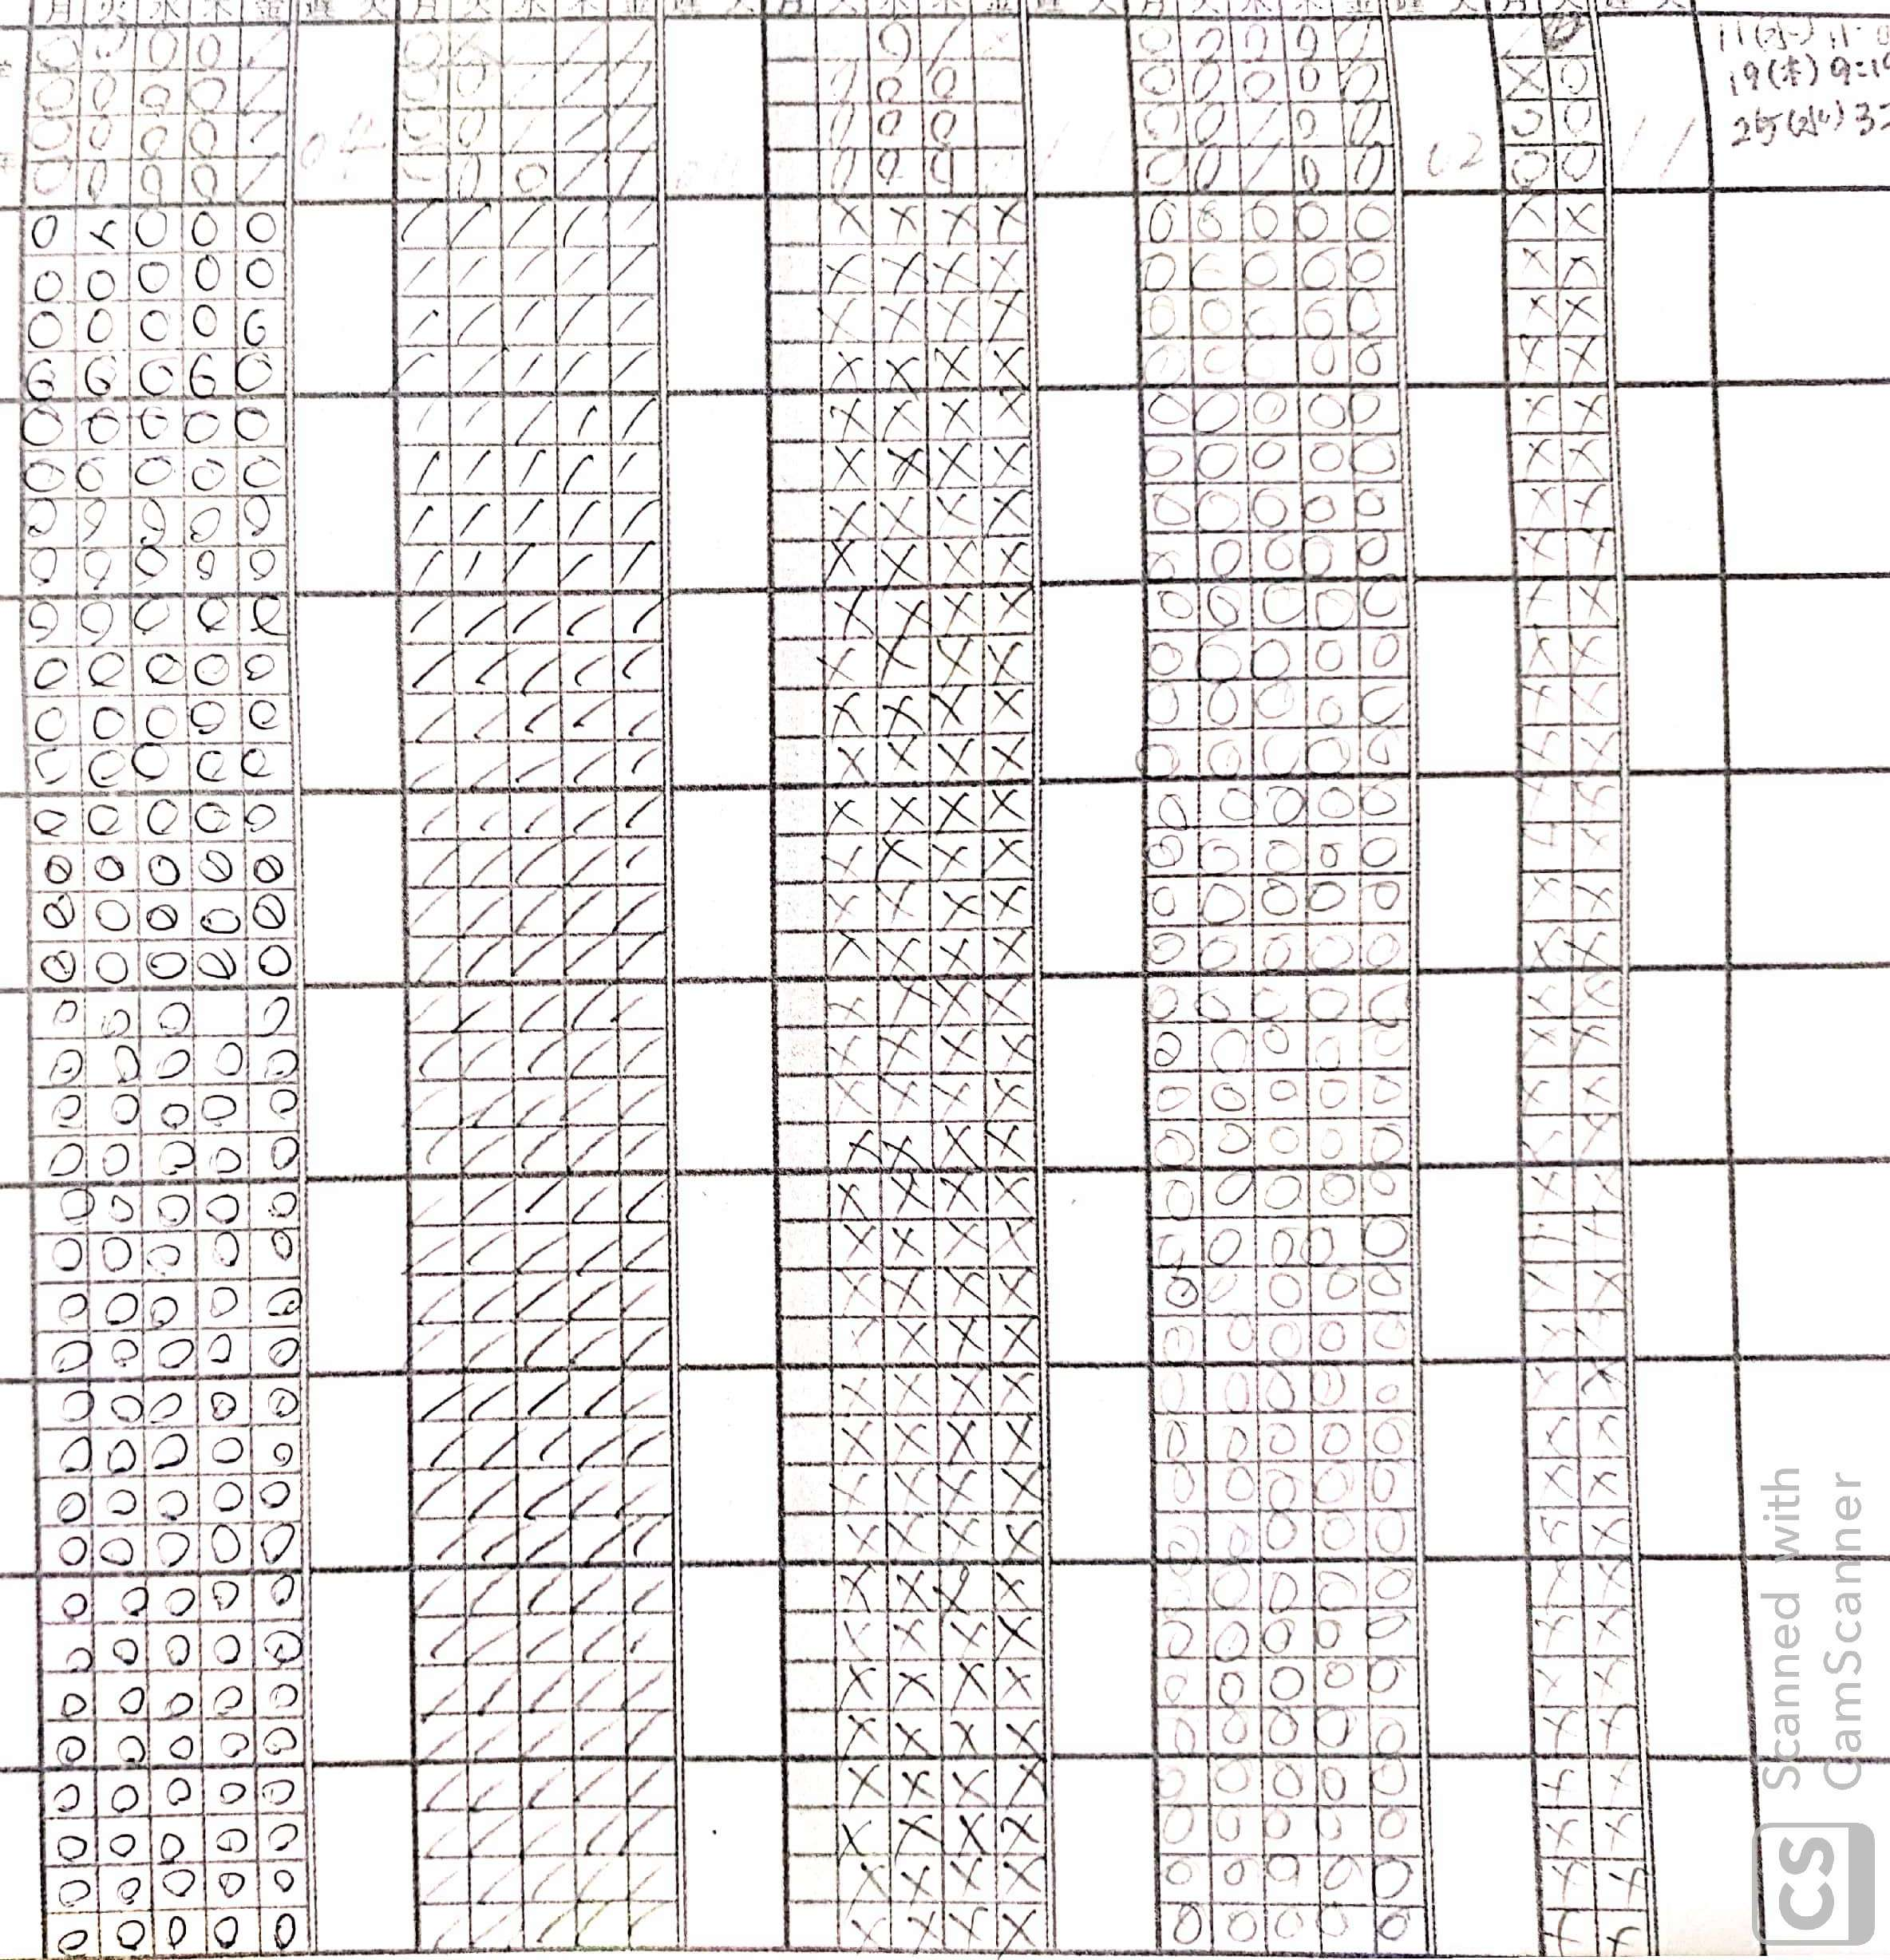/: (411, 1419, 467, 1472), (464, 1127, 518, 1178), (404, 887, 453, 935), (413, 1180, 464, 1225), (514, 1180, 567, 1223), (520, 1272, 565, 1320), (471, 1425, 518, 1470), (560, 294, 604, 343), (467, 1178, 516, 1222), (562, 599, 612, 641), (614, 495, 658, 542), (574, 1225, 618, 1271), (579, 1376, 625, 1419), (618, 791, 660, 838), (411, 1132, 458, 1174), (525, 1421, 567, 1468), (565, 647, 616, 686), (558, 499, 602, 542), (514, 695, 558, 739), (570, 1178, 614, 1222), (525, 1472, 569, 1516), (462, 698, 507, 740), (527, 1713, 572, 1755), (527, 1811, 572, 1853), (397, 254, 445, 294), (411, 1039, 458, 1080), (472, 1664, 513, 1712), (427, 1815, 474, 1855), (577, 1713, 626, 1752), (415, 1862, 466, 1899), (466, 751, 509, 793), (422, 1766, 464, 1810), (527, 1764, 569, 1808), (630, 1901, 672, 1944), (511, 401, 551, 446), (625, 1031, 665, 1076), (476, 1813, 521, 1853), (520, 747, 558, 795), (408, 753, 455, 791), (464, 798, 511, 836), (423, 1907, 471, 1946), (472, 1862, 521, 1899), (455, 206, 497, 249), (572, 1080, 614, 1122), (625, 1178, 667, 1220), (576, 1281, 618, 1323), (576, 1425, 618, 1467), (418, 1573, 460, 1615), (406, 649, 450, 690), (455, 499, 495, 542), (625, 845, 665, 889), (413, 1083, 457, 1124), (415, 1279, 458, 1320), (471, 1475, 511, 1519), (410, 702, 455, 740), (567, 800, 612, 838), (462, 894, 507, 933), (471, 1276, 509, 1321), (579, 1907, 626, 1944), (569, 891, 611, 931), (402, 205, 443, 247), (562, 450, 604, 490), (626, 1232, 667, 1274), (471, 1325, 513, 1365), (420, 1621, 462, 1661), (565, 205, 604, 249), (404, 352, 448, 390), (625, 595, 663, 639), (467, 1080, 506, 1124), (520, 1230, 563, 1269), (418, 1472, 457, 1516), (633, 1517, 672, 1561), (579, 1815, 623, 1853), (528, 1907, 572, 1946), (455, 350, 501, 387), (572, 702, 618, 739), (410, 800, 455, 836), (520, 898, 565, 935), (623, 1081, 660, 1127), (472, 1769, 518, 1806), (527, 1862, 572, 1899), (471, 1719, 518, 1754), (523, 1132, 572, 1166), (614, 304, 654, 345), (408, 453, 448, 494), (619, 698, 660, 739), (520, 847, 560, 887), (411, 942, 451, 982), (469, 1036, 509, 1076), (509, 250, 548, 292), (457, 301, 499, 340), (410, 600, 448, 642), (518, 942, 560, 980), (471, 1230, 509, 1272), (471, 1521, 509, 1563), (420, 1670, 458, 1712), (579, 1764, 618, 1806), (422, 845, 458, 889), (516, 992, 560, 1029), (415, 1232, 458, 1269), (418, 1379, 462, 1416), (528, 1670, 572, 1706), (630, 1274, 665, 1320), (525, 1381, 572, 1414), (569, 746, 609, 784), (521, 796, 560, 836), (619, 894, 660, 933), (471, 1572, 511, 1610), (472, 1621, 513, 1659), (528, 1621, 567, 1661), (633, 1860, 672, 1901), (625, 744, 661, 786), (583, 1523, 619, 1565), (633, 1811, 670, 1853), (514, 347, 549, 390), (516, 651, 555, 690), (462, 403, 501, 441), (423, 1524, 462, 1563), (583, 1860, 621, 1899), (467, 942, 507, 978), (458, 448, 495, 488), (567, 404, 604, 445), (467, 651, 504, 691), (625, 1325, 665, 1361), (579, 1473, 616, 1514), (576, 1572, 616, 1608), (572, 992, 614, 1027), (572, 1039, 614, 1075), (525, 1573, 567, 1608), (621, 397, 654, 441), (476, 1906, 520, 1939), (520, 1087, 556, 1125), (632, 1670, 670, 1706), (621, 249, 656, 289), (562, 350, 597, 390), (623, 989, 663, 1024), (576, 1330, 616, 1365), (415, 1330, 455, 1365), (472, 1381, 513, 1416), (464, 847, 506, 880), (621, 647, 658, 684), (572, 938, 609, 975), (415, 992, 451, 1029), (525, 1332, 563, 1367), (528, 1523, 567, 1558), (579, 1670, 618, 1704), (581, 1621, 614, 1661), (514, 205, 548, 245), (509, 299, 542, 340), (577, 1134, 619, 1166), (518, 448, 548, 492), (518, 1041, 562, 1071), (614, 352, 651, 387), (513, 546, 548, 583), (623, 940, 658, 977), (632, 1717, 668, 1752), (467, 992, 506, 1025), (633, 1764, 667, 1803), (514, 499, 546, 539), (408, 551, 448, 583), (404, 308, 446, 338), (520, 604, 555, 639), (422, 1725, 466, 1754), (628, 1377, 661, 1414), (626, 1136, 663, 1169), (408, 401, 439, 438), (462, 609, 506, 635), (565, 553, 604, 583), (572, 257, 600, 298), (621, 205, 654, 238), (458, 256, 492, 289), (632, 1577, 667, 1608), (411, 501, 437, 542), (464, 553, 495, 588), (628, 1432, 663, 1461), (626, 555, 654, 585), (630, 1484, 654, 1510), (633, 1624, 653, 1656)
0: (1249, 726, 1309, 781), (1144, 672, 1199, 730), (1356, 774, 1409, 831), (1253, 917, 1305, 973), (1304, 922, 1360, 975), (1304, 872, 1360, 924), (1146, 1216, 1202, 1269), (1153, 1365, 1209, 1417), (1255, 1265, 1314, 1314), (1242, 240, 1297, 292), (1251, 677, 1305, 730), (1349, 336, 1402, 390), (1209, 1755, 1263, 1808), (1199, 875, 1255, 926), (1249, 628, 1305, 679), (1305, 1169, 1365, 1216), (1263, 1859, 1323, 1906), (1148, 1022, 1200, 1075), (1193, 434, 1246, 487), (1202, 1216, 1255, 1269), (1146, 971, 1200, 1022), (1199, 630, 1253, 681), (1199, 824, 1253, 875), (1309, 726, 1360, 781), (1304, 532, 1358, 583), (1363, 1361, 1417, 1412), (1139, 389, 1195, 438), (1244, 389, 1300, 438), (1255, 1017, 1304, 1073), (1300, 481, 1356, 530), (1148, 1269, 1206, 1316), (1157, 1806, 1216, 1852), (1244, 338, 1297, 389), (1265, 1806, 1318, 1857), (1144, 877, 1199, 926), (1262, 1761, 1316, 1810), (1148, 1071, 1204, 1118), (1305, 826, 1361, 873), (1249, 1169, 1305, 1216), (1146, 1169, 1202, 1216), (1309, 1313, 1365, 1360), (1200, 1314, 1258, 1360), (1192, 240, 1242, 290), (1143, 290, 1193, 341), (1148, 532, 1199, 583), (1255, 823, 1305, 873), (1356, 679, 1407, 730), (1314, 1265, 1365, 1316), (1162, 1901, 1213, 1951), (1193, 338, 1246, 387), (1199, 677, 1251, 726), (1200, 926, 1253, 975), (1253, 775, 1305, 824), (1365, 1313, 1417, 1361), (1311, 1363, 1363, 1412), (1256, 1411, 1309, 1460), (1372, 1806, 1421, 1859), (1139, 341, 1193, 389), (1144, 485, 1199, 532), (1143, 826, 1197, 873), (1199, 583, 1253, 630), (1202, 1071, 1256, 1118), (1246, 438, 1300, 485), (1246, 485, 1300, 532), (1251, 581, 1305, 628), (1307, 1118, 1361, 1166), (1255, 1216, 1309, 1264), (1309, 1460, 1363, 1507), (1192, 487, 1248, 532), (1213, 1907, 1269, 1953), (1148, 728, 1199, 777), (1148, 777, 1199, 826), (1199, 532, 1248, 583), (1251, 530, 1300, 581), (1309, 628, 1358, 679), (1360, 926, 1410, 975), (1206, 1411, 1256, 1460), (1214, 1806, 1265, 1855), (1200, 973, 1253, 1020), (1200, 1024, 1253, 1071), (1307, 1071, 1360, 1118), (1300, 434, 1353, 481), (1144, 926, 1199, 971), (1190, 292, 1244, 338), (1304, 583, 1358, 628), (1309, 1220, 1365, 1264), (1319, 1909, 1377, 1951), (1148, 581, 1197, 630), (1358, 630, 1407, 679), (1361, 975, 1410, 1024), (1323, 1806, 1372, 1855), (1143, 240, 1190, 290), (1144, 438, 1195, 485), (1148, 630, 1199, 677), (1256, 1071, 1307, 1118), (1361, 1066, 1409, 1116), (1206, 1460, 1256, 1507), (1193, 389, 1246, 434), (1200, 781, 1253, 826), (1307, 1025, 1360, 1071), (1309, 781, 1361, 826), (1323, 1860, 1375, 1906), (1316, 1761, 1370, 1804), (1304, 387, 1353, 434), (1304, 336, 1349, 387), (1354, 535, 1405, 581), (1206, 1269, 1256, 1314), (1258, 1314, 1309, 1360), (1260, 1363, 1311, 1409), (1153, 1416, 1204, 1461), (1356, 730, 1409, 774), (1363, 1463, 1416, 1507), (1316, 1608, 1368, 1652), (1157, 1762, 1209, 1806), (1269, 1909, 1323, 1951), (1298, 194, 1346, 242), (1297, 245, 1344, 292), (1309, 679, 1356, 726), (1354, 438, 1402, 485), (1202, 1169, 1249, 1216), (1246, 292, 1295, 338), (1358, 583, 1403, 632), (1151, 1316, 1200, 1361), (1365, 1414, 1414, 1460), (1256, 1463, 1305, 1509), (1377, 1909, 1426, 1955), (1199, 1125, 1256, 1164), (1360, 875, 1403, 926), (1365, 1166, 1409, 1216), (1209, 1365, 1260, 1409), (1157, 1470, 1213, 1509), (1193, 194, 1239, 242), (1361, 1118, 1409, 1164), (1360, 1022, 1409, 1066), (1365, 1264, 1409, 1313), (1162, 1857, 1211, 1901), (1216, 1853, 1256, 1906), (1354, 389, 1400, 434), (1316, 1657, 1361, 1703), (1374, 1860, 1419, 1906), (1358, 485, 1402, 532), (1312, 1414, 1360, 1458), (1160, 1610, 1204, 1657), (1267, 1713, 1314, 1757), (1207, 1712, 1263, 1748), (1351, 245, 1396, 289), (1258, 875, 1304, 919), (1318, 1512, 1361, 1558), (1213, 1614, 1256, 1659), (1199, 731, 1246, 774), (1150, 1124, 1199, 1164), (1256, 1125, 1305, 1166), (1263, 1615, 1312, 1656), (1263, 1656, 1304, 1704), (1248, 196, 1290, 242), (1256, 977, 1304, 1017), (1356, 831, 1403, 872), (1265, 1566, 1309, 1608), (1351, 196, 1391, 242), (1213, 1566, 1258, 1607), (1375, 1759, 1416, 1804), (1207, 1517, 1255, 1556), (1157, 1516, 1199, 1558), (1365, 1220, 1409, 1260), (1372, 1713, 1416, 1754), (1143, 194, 1181, 240), (1367, 1612, 1412, 1650), (1265, 1516, 1309, 1554), (1368, 1664, 1412, 1703), (1370, 1514, 1412, 1552), (1213, 1664, 1255, 1703), (1319, 1568, 1365, 1603), (1374, 1563, 1412, 1603), (1323, 1710, 1363, 1748), (1162, 1668, 1199, 1704), (1164, 1715, 1199, 1754), (1354, 296, 1393, 329)
o: (208, 1909, 257, 1957), (255, 1670, 303, 1715), (101, 1769, 149, 1815), (79, 599, 128, 642), (131, 597, 180, 641), (206, 1815, 252, 1860), (47, 1869, 93, 1915), (206, 1860, 252, 1906), (189, 595, 236, 639), (42, 1479, 89, 1523), (147, 1479, 194, 1523), (255, 1524, 303, 1568), (96, 1528, 143, 1572), (40, 1579, 87, 1622), (259, 1624, 306, 1668), (201, 1624, 248, 1668), (44, 1626, 91, 1670), (42, 1677, 89, 1720), (150, 1675, 198, 1719), (199, 1671, 247, 1715), (101, 1724, 149, 1768), (45, 1724, 93, 1768), (255, 1768, 303, 1811), (262, 1815, 310, 1859), (149, 1815, 196, 1859), (45, 1820, 93, 1864), (100, 1867, 147, 1911), (152, 1862, 199, 1906), (261, 1907, 308, 1951), (94, 1477, 140, 1521), (205, 1473, 250, 1517), (257, 1472, 303, 1516), (201, 1526, 247, 1570), (147, 1528, 192, 1572), (45, 1528, 91, 1572), (96, 1579, 142, 1622), (149, 1577, 194, 1621), (199, 1573, 245, 1617), (255, 1568, 301, 1612), (154, 1624, 199, 1668), (100, 1624, 145, 1668), (96, 1673, 142, 1717), (257, 1717, 303, 1761), (206, 1717, 252, 1761), (154, 1720, 199, 1764), (47, 1774, 93, 1818), (154, 1771, 199, 1815), (203, 1771, 248, 1815), (98, 1818, 143, 1862), (257, 1862, 303, 1906), (133, 501, 180, 542), (187, 501, 234, 542), (77, 499, 124, 541), (24, 501, 72, 542), (23, 544, 70, 586), (75, 546, 123, 588), (131, 546, 178, 588), (184, 544, 231, 586), (236, 544, 283, 586), (26, 599, 73, 641), (198, 896, 245, 938), (247, 892, 294, 935), (247, 938, 294, 980), (37, 943, 84, 985), (143, 992, 191, 1034), (248, 1036, 296, 1078), (199, 1036, 247, 1078), (89, 1038, 136, 1080), (35, 1089, 82, 1131), (145, 1090, 192, 1132), (252, 1087, 299, 1129), (252, 1134, 299, 1176), (147, 1134, 194, 1176), (91, 1137, 138, 1180), (42, 1185, 89, 1227), (145, 1188, 192, 1230), (149, 1234, 196, 1276), (145, 1283, 192, 1325), (149, 1334, 196, 1376), (98, 1334, 145, 1376), (42, 1334, 89, 1376), (131, 208, 177, 250), (182, 403, 228, 445), (91, 942, 136, 984), (245, 991, 290, 1033), (91, 1090, 136, 1132), (199, 1185, 245, 1227), (208, 1281, 254, 1323), (199, 1334, 245, 1376), (234, 495, 282, 535), (194, 943, 241, 984), (143, 943, 191, 984), (37, 994, 84, 1034), (91, 994, 138, 1034), (149, 1039, 196, 1080), (38, 1043, 86, 1083), (198, 1089, 245, 1129), (199, 1134, 247, 1174), (37, 1141, 84, 1181), (91, 1187, 138, 1227), (250, 1185, 297, 1225), (248, 1232, 296, 1272), (196, 1232, 243, 1272), (42, 1232, 89, 1272), (96, 1284, 143, 1325), (38, 1384, 86, 1425), (38, 1432, 86, 1472), (24, 403, 68, 445), (24, 453, 68, 495), (236, 399, 280, 441), (135, 403, 178, 445), (82, 403, 126, 445), (75, 450, 119, 492), (133, 450, 177, 492), (191, 453, 234, 495), (241, 448, 285, 490), (45, 1288, 91, 1328), (131, 256, 173, 298), (133, 304, 175, 347), (240, 301, 282, 343), (187, 299, 229, 341), (82, 350, 124, 392), (236, 350, 280, 390), (247, 796, 290, 836), (140, 796, 182, 836), (189, 352, 231, 392), (135, 352, 177, 392), (24, 354, 66, 394), (86, 796, 128, 836), (33, 798, 75, 838), (194, 795, 236, 835), (255, 1332, 299, 1370), (138, 744, 182, 782), (86, 702, 128, 740), (245, 744, 287, 782), (192, 749, 236, 786), (87, 747, 131, 784), (871, 19, 917, 54), (93, 1236, 133, 1274), (80, 261, 121, 299), (28, 308, 66, 348), (245, 698, 287, 735), (247, 847, 289, 884), (241, 254, 278, 296), (33, 747, 75, 784), (189, 254, 224, 298), (243, 208, 282, 247), (243, 599, 282, 637), (192, 646, 229, 686), (87, 647, 124, 688), (191, 698, 231, 735), (143, 703, 184, 740), (33, 703, 73, 740), (199, 847, 240, 884), (140, 847, 180, 884), (33, 849, 73, 886), (35, 892, 75, 929), (91, 896, 131, 933), (142, 896, 182, 933), (54, 1923, 94, 1960), (255, 1283, 297, 1318), (86, 852, 131, 884), (145, 649, 182, 688), (243, 649, 280, 688), (35, 651, 72, 690), (103, 1435, 138, 1475), (157, 1915, 199, 1948), (82, 308, 119, 345), (147, 1391, 187, 1425), (105, 1920, 147, 1951), (208, 1435, 245, 1468), (30, 210, 61, 249), (31, 270, 66, 301), (266, 1386, 296, 1419), (269, 1440, 292, 1468)
x: (828, 1363, 891, 1419), (833, 1656, 891, 1712), (936, 1804, 997, 1855), (884, 1661, 943, 1708), (982, 485, 1034, 537), (980, 635, 1034, 686), (933, 1269, 989, 1318), (940, 1512, 996, 1561), (885, 1710, 943, 1757), (936, 1610, 996, 1656), (929, 535, 982, 586), (831, 1216, 882, 1269), (936, 1314, 989, 1365), (877, 490, 931, 539), (836, 1853, 891, 1902), (870, 641, 927, 686), (941, 1761, 1001, 1804), (943, 1708, 994, 1759), (824, 490, 877, 539), (889, 1510, 941, 1559), (941, 1853, 994, 1902), (985, 1222, 1039, 1269), (836, 1902, 891, 1949), (830, 1271, 885, 1316), (989, 1269, 1039, 1318), (994, 1565, 1045, 1614), (891, 1853, 941, 1902), (879, 588, 931, 635), (873, 445, 927, 490), (833, 1417, 887, 1463), (884, 1566, 940, 1610), (822, 196, 871, 245), (836, 1318, 885, 1367), (991, 1365, 1039, 1414), (931, 490, 982, 537), (982, 535, 1032, 583), (931, 588, 982, 635), (884, 1220, 934, 1267), (885, 1318, 936, 1365), (836, 1713, 887, 1761), (879, 1174, 931, 1220), (826, 1172, 879, 1218), (941, 1566, 994, 1612), (840, 1610, 885, 1662), (994, 1902, 1046, 1948), (835, 1516, 889, 1559), (891, 1906, 945, 1949), (880, 1027, 927, 1076), (884, 1269, 933, 1316), (936, 1220, 987, 1265), (996, 1661, 1041, 1712), (879, 541, 931, 585), (982, 588, 1029, 635), (994, 1318, 1041, 1365), (826, 737, 875, 782), (882, 1124, 927, 1172), (826, 292, 870, 343), (828, 1029, 879, 1073), (885, 1369, 936, 1412), (835, 1565, 885, 1608), (929, 196, 976, 242), (982, 200, 1029, 245), (933, 1076, 982, 1120), (894, 1411, 936, 1461), (945, 1906, 997, 1946), (987, 635, 1032, 681), (933, 343, 978, 389), (879, 198, 922, 245), (822, 247, 870, 290), (931, 390, 978, 434), (824, 445, 871, 488), (992, 1472, 1039, 1516), (879, 390, 921, 439), (831, 1076, 877, 1120), (826, 593, 873, 635), (885, 1073, 926, 1122), (936, 641, 980, 684), (830, 789, 873, 833), (936, 1025, 980, 1069), (994, 1417, 1036, 1463), (931, 931, 978, 971), (931, 739, 982, 775), (933, 296, 976, 338), (877, 347, 921, 389), (987, 441, 1029, 485), (936, 690, 978, 733), (833, 1125, 875, 1169), (945, 1664, 991, 1704), (830, 641, 870, 686), (828, 987, 875, 1025), (822, 397, 871, 434), (824, 935, 873, 971), (936, 884, 978, 926), (877, 249, 921, 289), (892, 1614, 931, 1659), (985, 292, 1024, 338), (987, 884, 1032, 922), (835, 1472, 880, 1510), (880, 789, 927, 826), (934, 836, 975, 879), (830, 691, 871, 731), (891, 1468, 933, 1509), (997, 1615, 1039, 1656), (826, 347, 868, 387), (880, 691, 922, 731), (840, 1811, 884, 1850), (989, 931, 1027, 975), (940, 1124, 978, 1167), (933, 445, 978, 481), (945, 1416, 982, 1461), (989, 833, 1025, 879), (989, 690, 1029, 730), (936, 984, 978, 1022), (997, 1176, 1036, 1218), (931, 250, 975, 287), (987, 343, 1024, 387), (991, 735, 1027, 779), (882, 840, 926, 877), (833, 836, 870, 880), (982, 252, 1027, 287), (826, 544, 866, 583), (989, 786, 1029, 824), (884, 984, 929, 1017), (938, 789, 978, 826), (992, 1076, 1029, 1116), (999, 1521, 1041, 1556), (1006, 1762, 1041, 1804), (989, 392, 1024, 434), (884, 935, 919, 977), (830, 889, 868, 926), (884, 882, 922, 919), (991, 1127, 1027, 1166), (933, 1178, 980, 1207), (898, 1811, 933, 1850), (1004, 1860, 1043, 1895), (884, 301, 919, 338), (994, 1034, 1029, 1071), (991, 989, 1031, 1020), (999, 1715, 1036, 1748), (884, 742, 919, 775)
